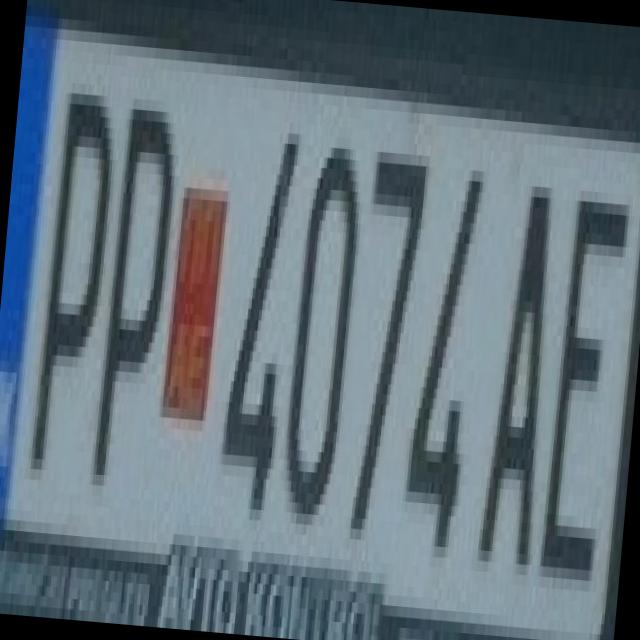0: (268, 92, 371, 526)
4: (206, 87, 305, 511), (390, 135, 491, 548)
7: (334, 129, 432, 532)
A: (465, 152, 570, 576)
E: (531, 178, 637, 571)
P: (22, 60, 128, 474), (79, 76, 180, 478)
